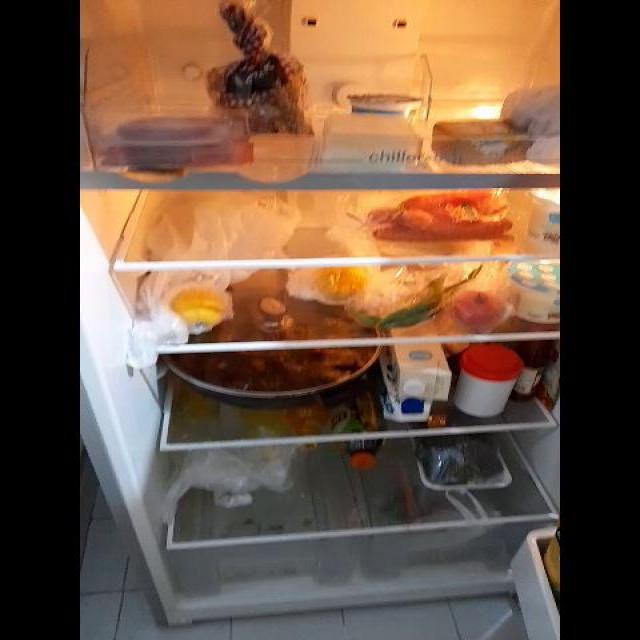bread: (212, 56, 307, 131)
broccoli: (424, 438, 505, 485)
butter: (434, 118, 528, 163)
carrot: (369, 198, 512, 238)
cheese: (320, 118, 415, 155)
green chilies: (364, 285, 449, 331)
lemon: (172, 285, 232, 326), (316, 267, 366, 299)
milk: (383, 347, 448, 419)
salami: (126, 116, 226, 143)
tomato: (452, 288, 505, 326)
yoghurt: (508, 259, 559, 321), (346, 93, 426, 114)
